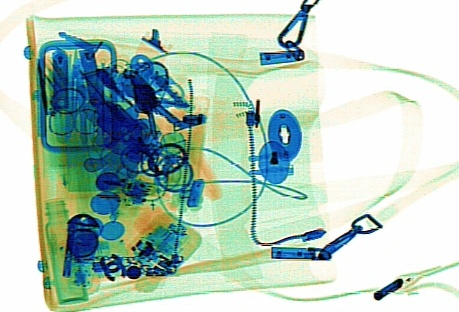scissors: (48, 48, 100, 135)
